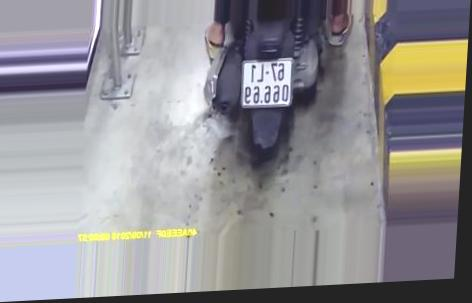License_Plate: (233, 55, 298, 112)
